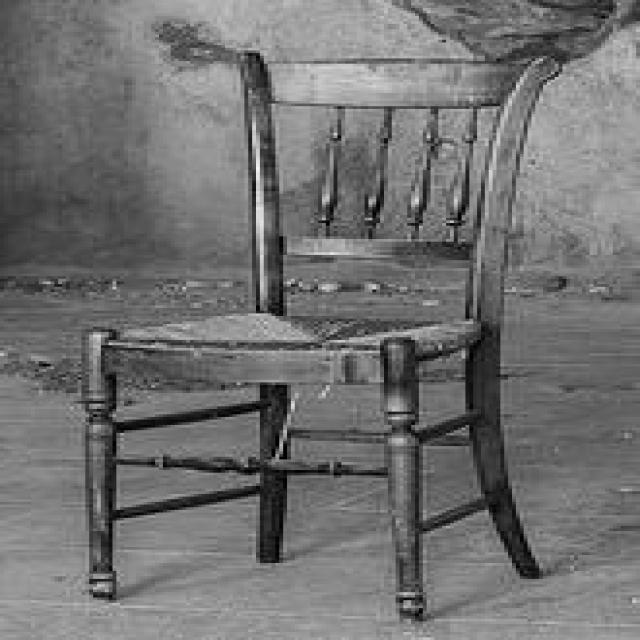chair: (78, 19, 558, 618)
